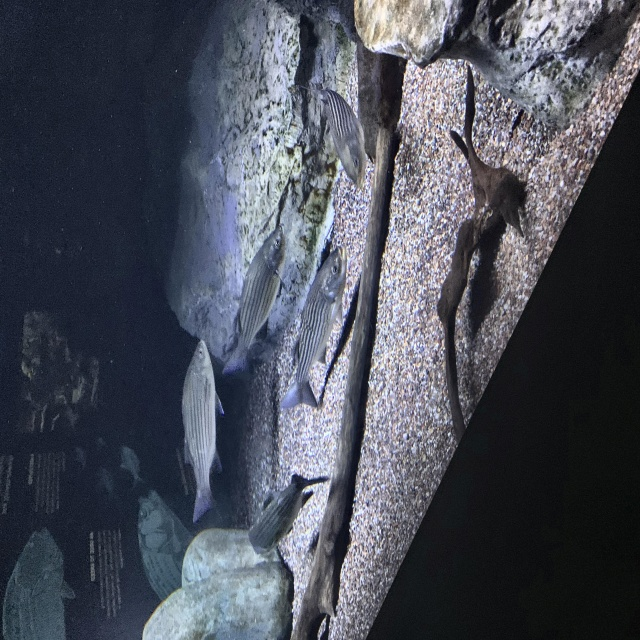fish: (280, 243, 350, 413), (221, 226, 285, 381), (179, 338, 224, 525), (243, 473, 330, 557), (322, 86, 367, 189)
